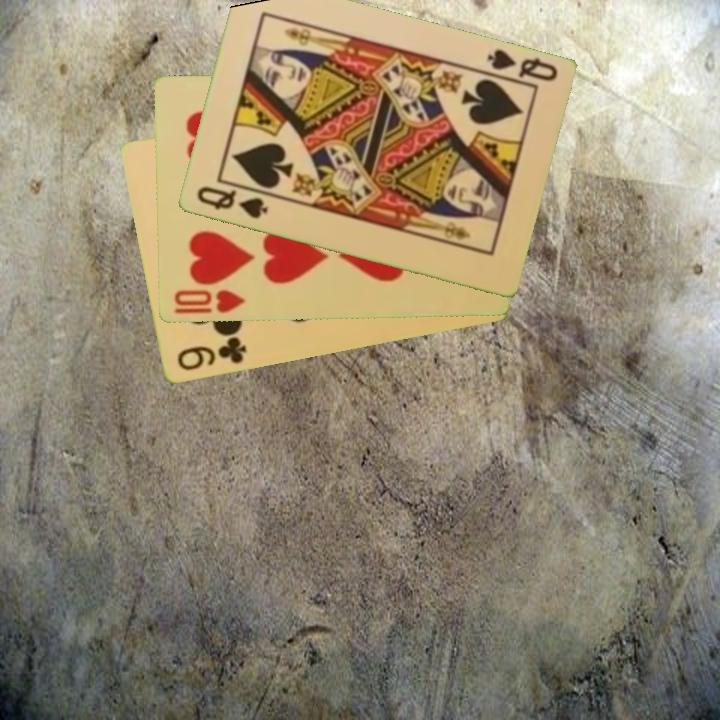10h: (170, 286, 247, 317)
9c: (173, 334, 249, 374)
Qs: (193, 183, 271, 222), (483, 46, 560, 85)
